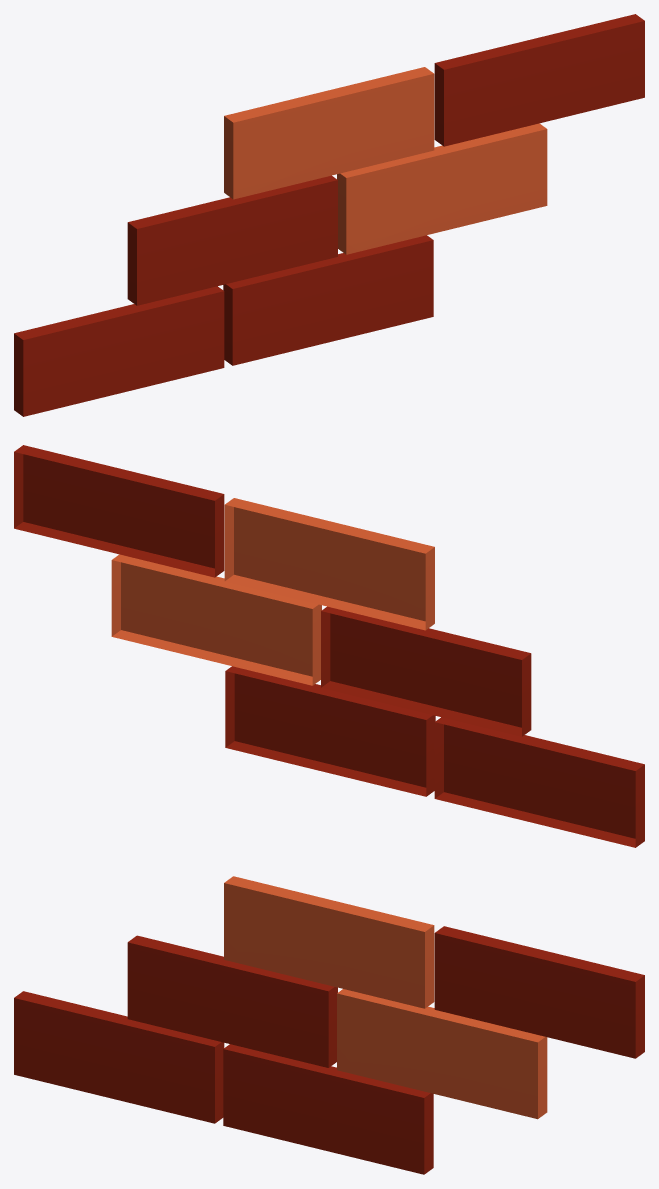
The model's file is Decor_Gach_01.fbx.
The picture shows the model from 3 angles, top to bottom: view 1: azimuth 30°, elevation 25°; view 2: azimuth 150°, elevation 25°; view 3: azimuth 330°, elevation 25°; orthographic projection.
Parts seen in each view (by area): view 1: Decor_Gach_01; view 2: Decor_Gach_01; view 3: Decor_Gach_01.
Boxes of the visible parts, x1,y1,x2,y2 form: Decor_Gach_01: [14, 14, 644, 416]; Decor_Gach_01: [14, 445, 644, 847]; Decor_Gach_01: [14, 876, 644, 1174].
Bounding box in the file's own units: 233 × 87.49 × 6.06.
